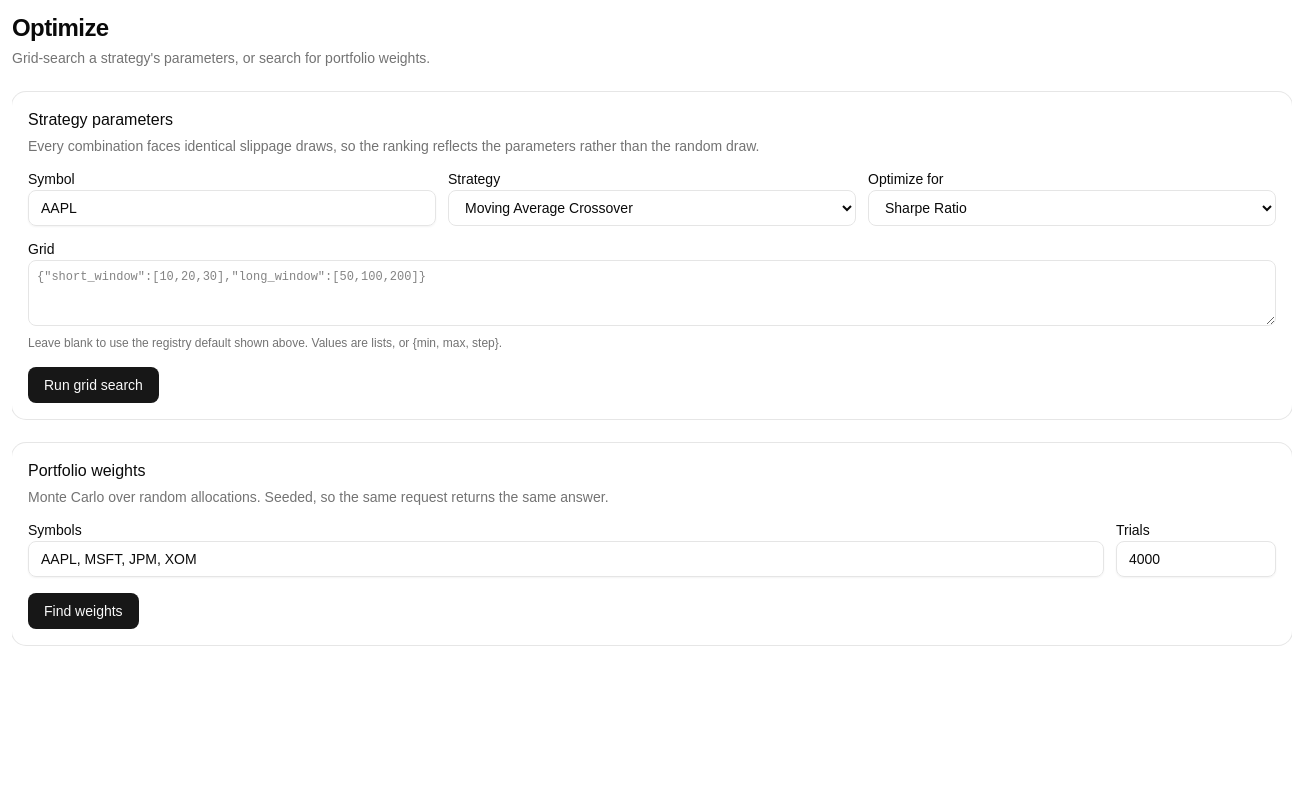
it: OptimizePage — grid search › warns that a risk metric has a degenerate optimum
Select "Annualized Volatility" in the dropdown labelled "Optimize for" at coordinates (1072, 208), box [868,190,1276,226]
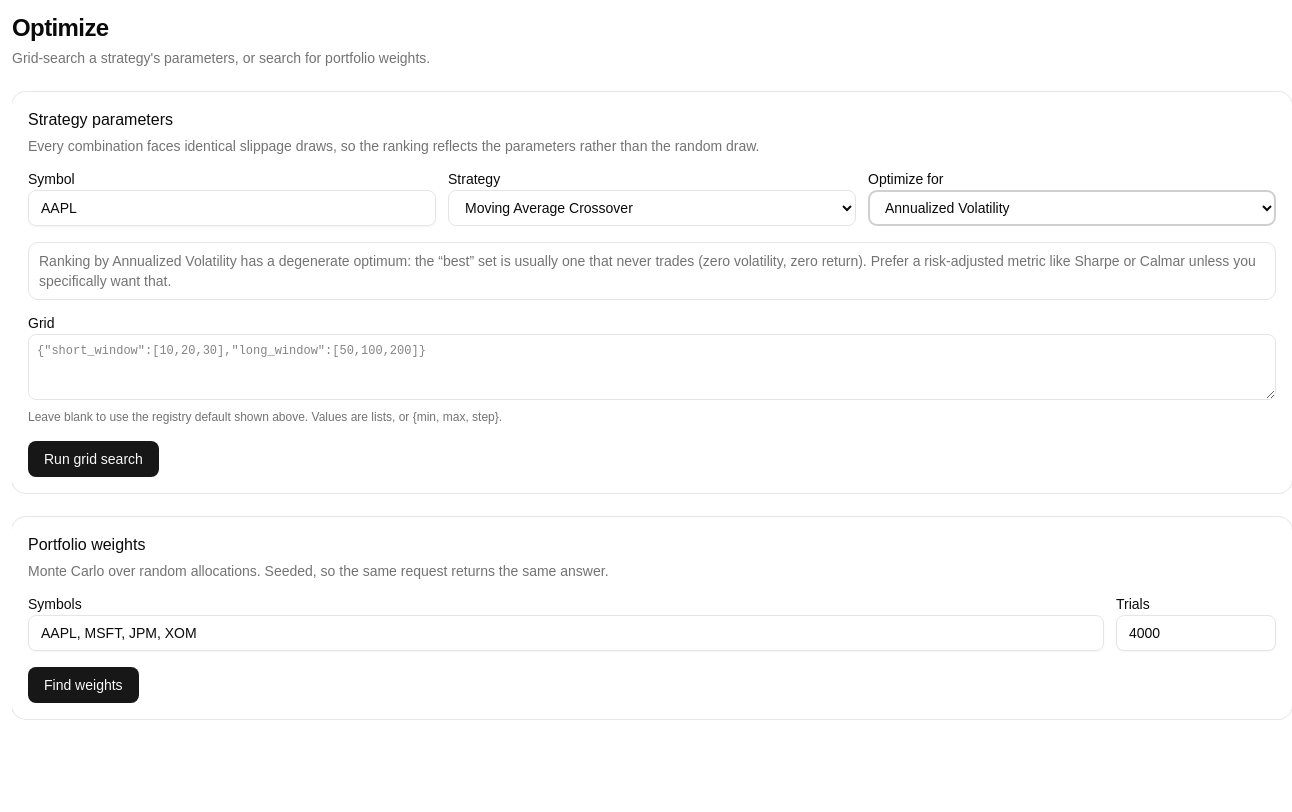
expect the text "degenerate optimum" is shown: met, box [39,253,1256,289]
